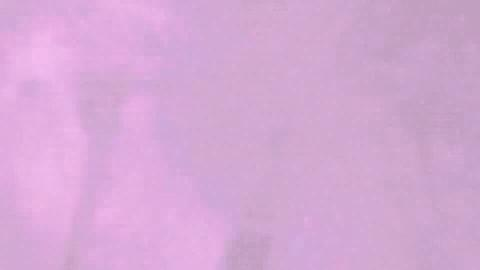tomato: (322, 103, 478, 268)
